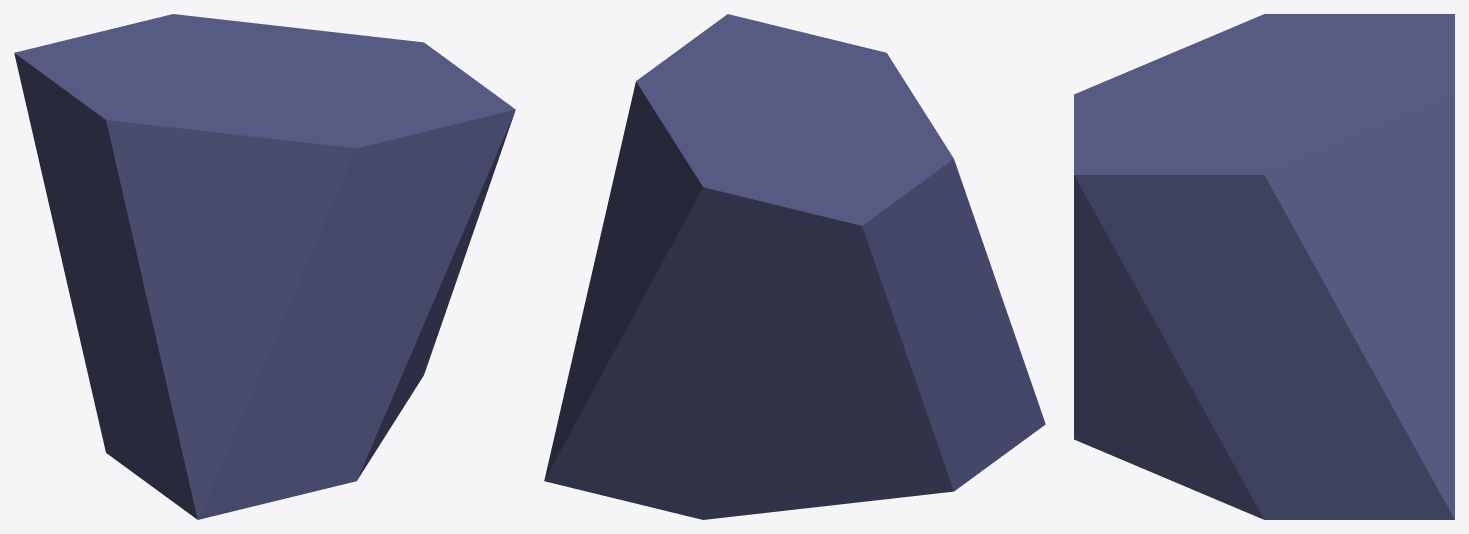
Rendered from carbon-fiber.glb.
3 renders of one model, left to right at view 1: azimuth 30°, elevation 25°; view 2: azimuth 150°, elevation 25°; view 3: azimuth 270°, elevation 25°, orthographic. The views are drawn at different scales.
Visible parts, largest first — view 1: Cube; view 2: Cube; view 3: Cube.
Part boxes in pixels (x1,y1,x2,y2): Cube: [14, 14, 515, 519]; Cube: [544, 14, 1045, 519]; Cube: [1074, 14, 1454, 519].
Size of the model in its own units: 1 by 1 by 1.
